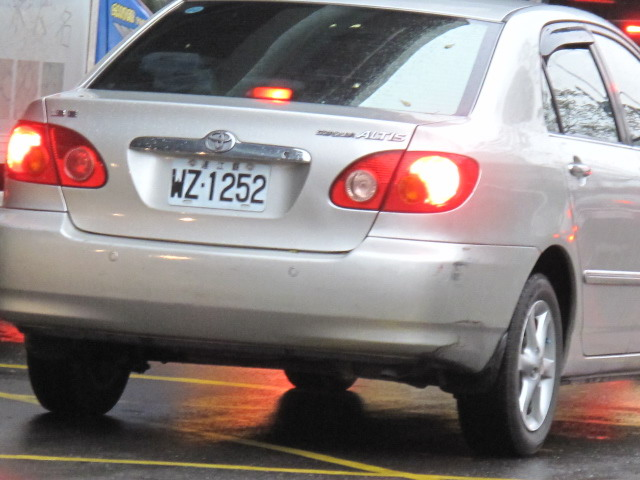plate: (166, 154, 271, 212)
